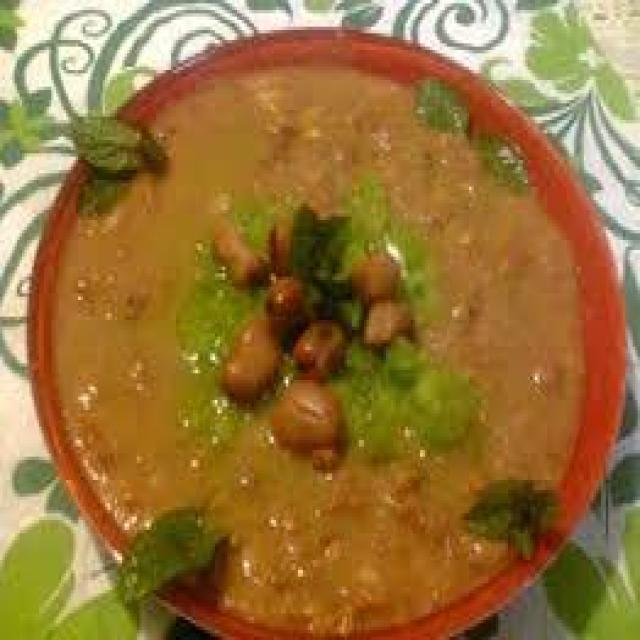fool: (48, 65, 568, 637)
